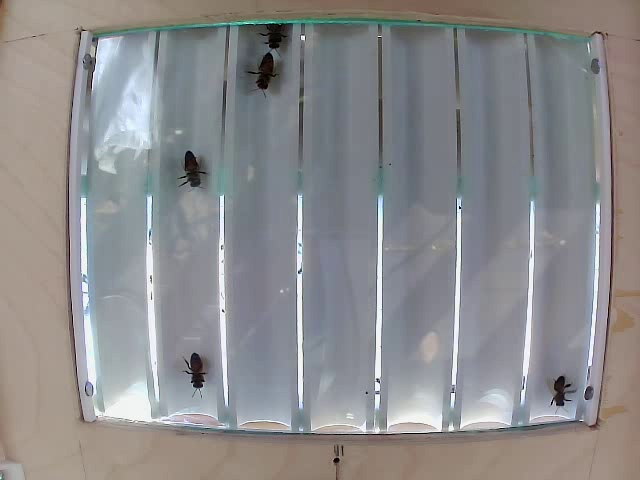bee: (166, 352, 227, 393), (180, 154, 214, 200), (248, 55, 276, 101), (548, 372, 576, 411)
